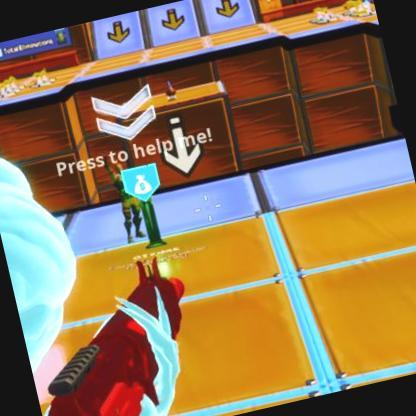person: (102, 164, 142, 236)
